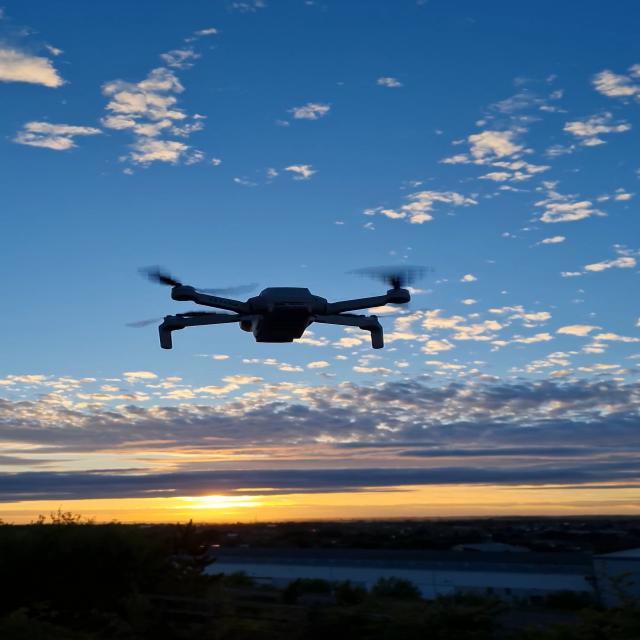Drone: (128, 250, 440, 368)
